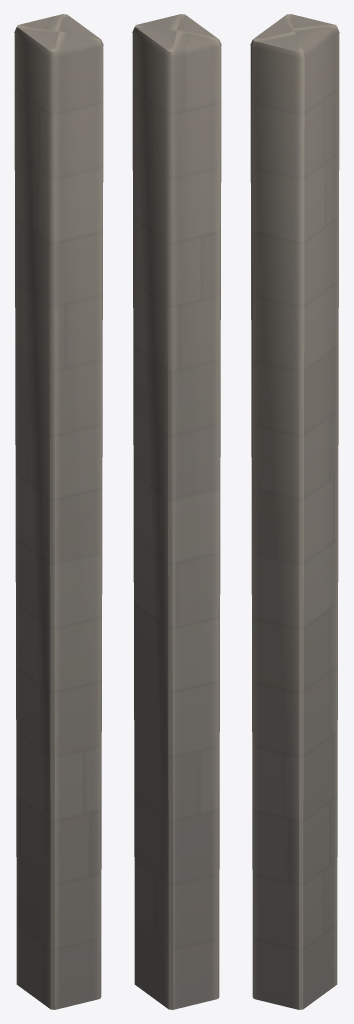
File: ext_4x5.glb
The picture shows the model from 3 angles, left to right: view 1: azimuth 30°, elevation 25°; view 2: azimuth 210°, elevation 25°; view 3: azimuth 330°, elevation 25°; orthographic projection.
Parts seen in each view (by area): view 1: ext_4x5.001; view 2: ext_4x5.001; view 3: ext_4x5.001.
Part boxes in pixels (bbox=[...]): ext_4x5.001: bbox=[14, 14, 103, 1009]; ext_4x5.001: bbox=[132, 14, 221, 1009]; ext_4x5.001: bbox=[250, 14, 339, 1009].
Bounding box in the file's own units: 2.35 × 40 × 2.95.
Materials: 1 (1 with a texture image).
